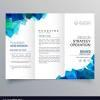paper: (0, 8, 96, 81)
